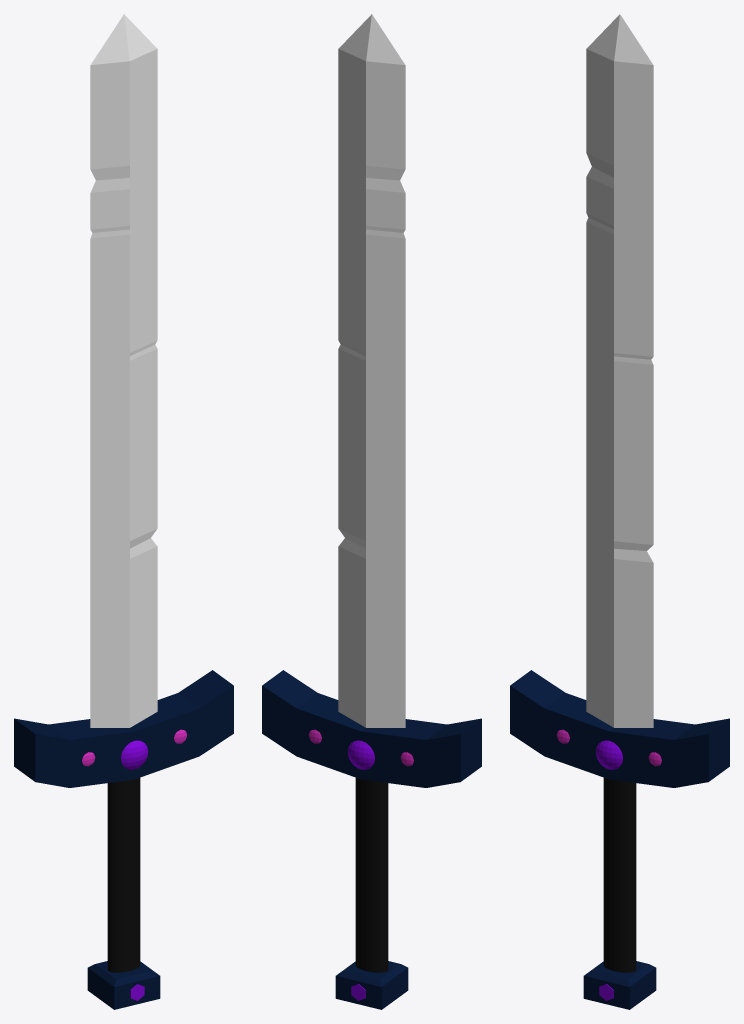
Rendered from Sword.fbx.
The picture shows the model from 3 angles, left to right: view 1: azimuth 30°, elevation 25°; view 2: azimuth 150°, elevation 25°; view 3: azimuth 330°, elevation 25°; orthographic projection.
Visible parts, largest first — view 1: Sword; view 2: Sword; view 3: Sword.
Part boxes in pixels (x1,y1,x2,y2): Sword: (14,14,233,1009); Sword: (262,14,481,1009); Sword: (510,14,729,1009).
Bounding box in the file's own units: 1728 × 8154 × 414.
